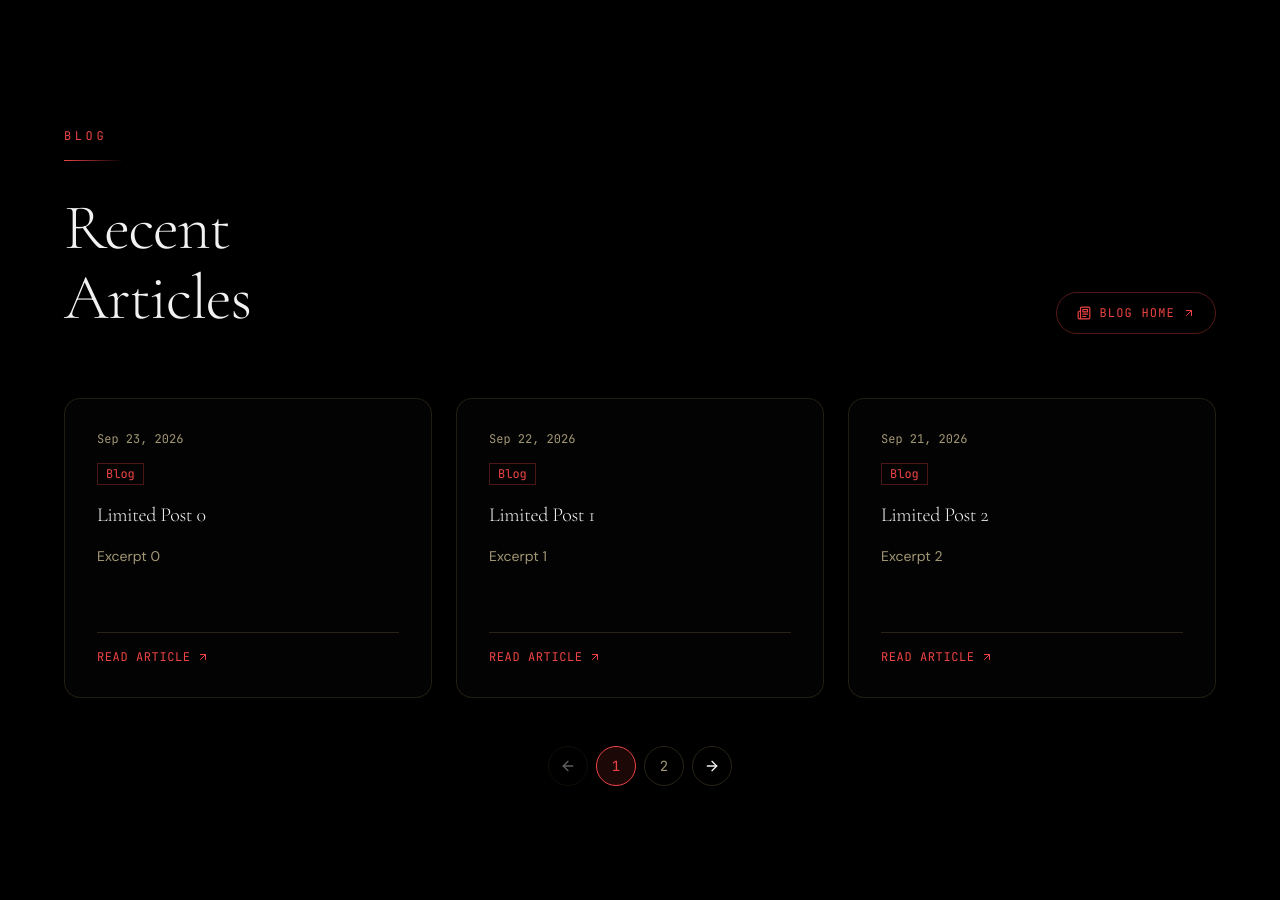
Test case: Articles › limits the homepage to the six newest posts
Click the button named "page 2": [664, 766] box [644,746,684,786]
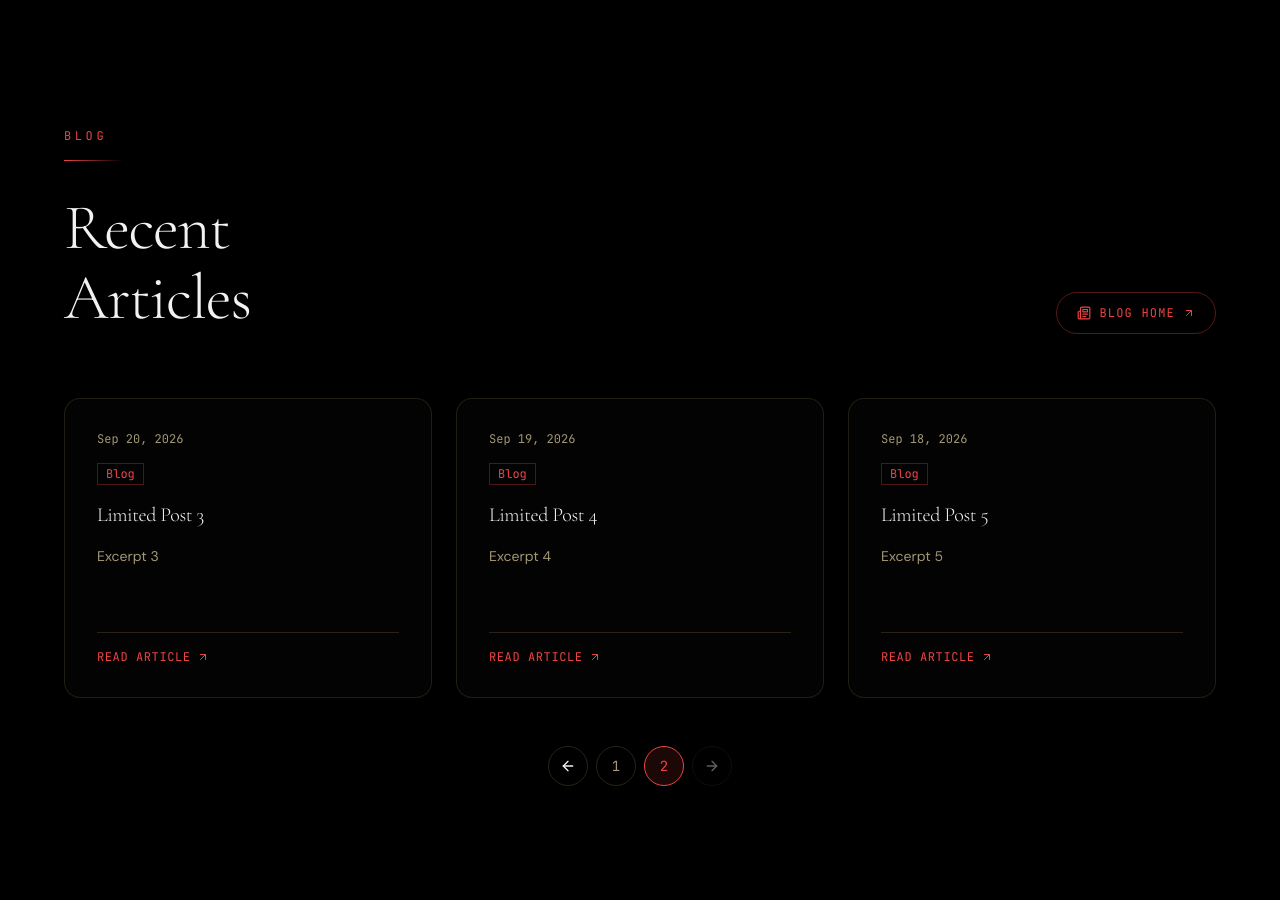
Now the link with aria-label "open article: limited post 5" is shown, box [881,503,988,527]
